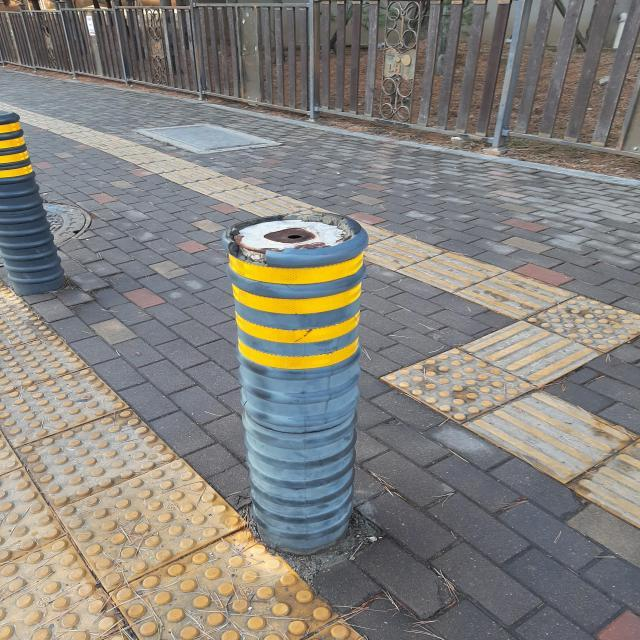pole: (223, 205, 368, 557)
